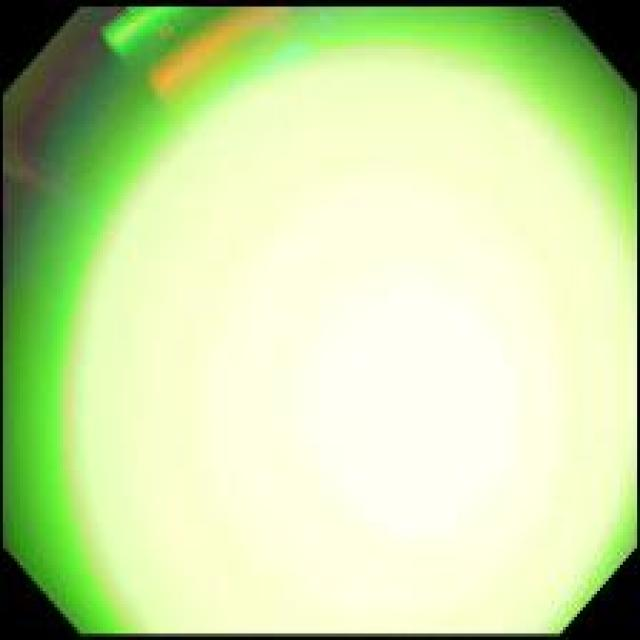color misalignment: (3, 4, 639, 636)
saturation: (59, 50, 636, 634)
